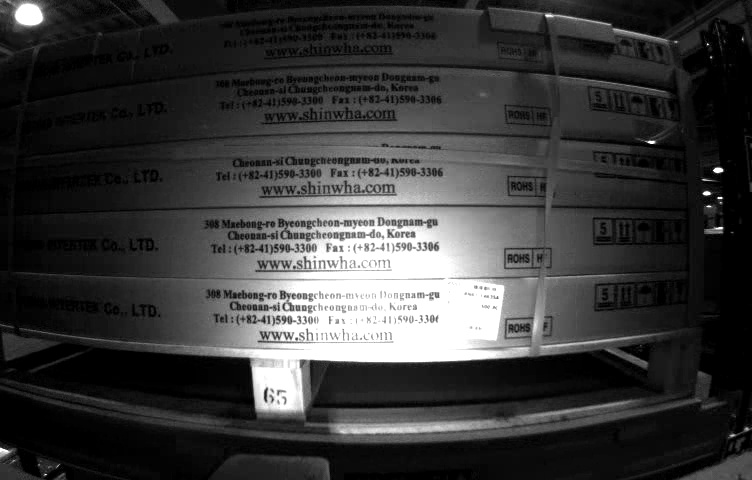True Barcode: (437, 275, 501, 341)
